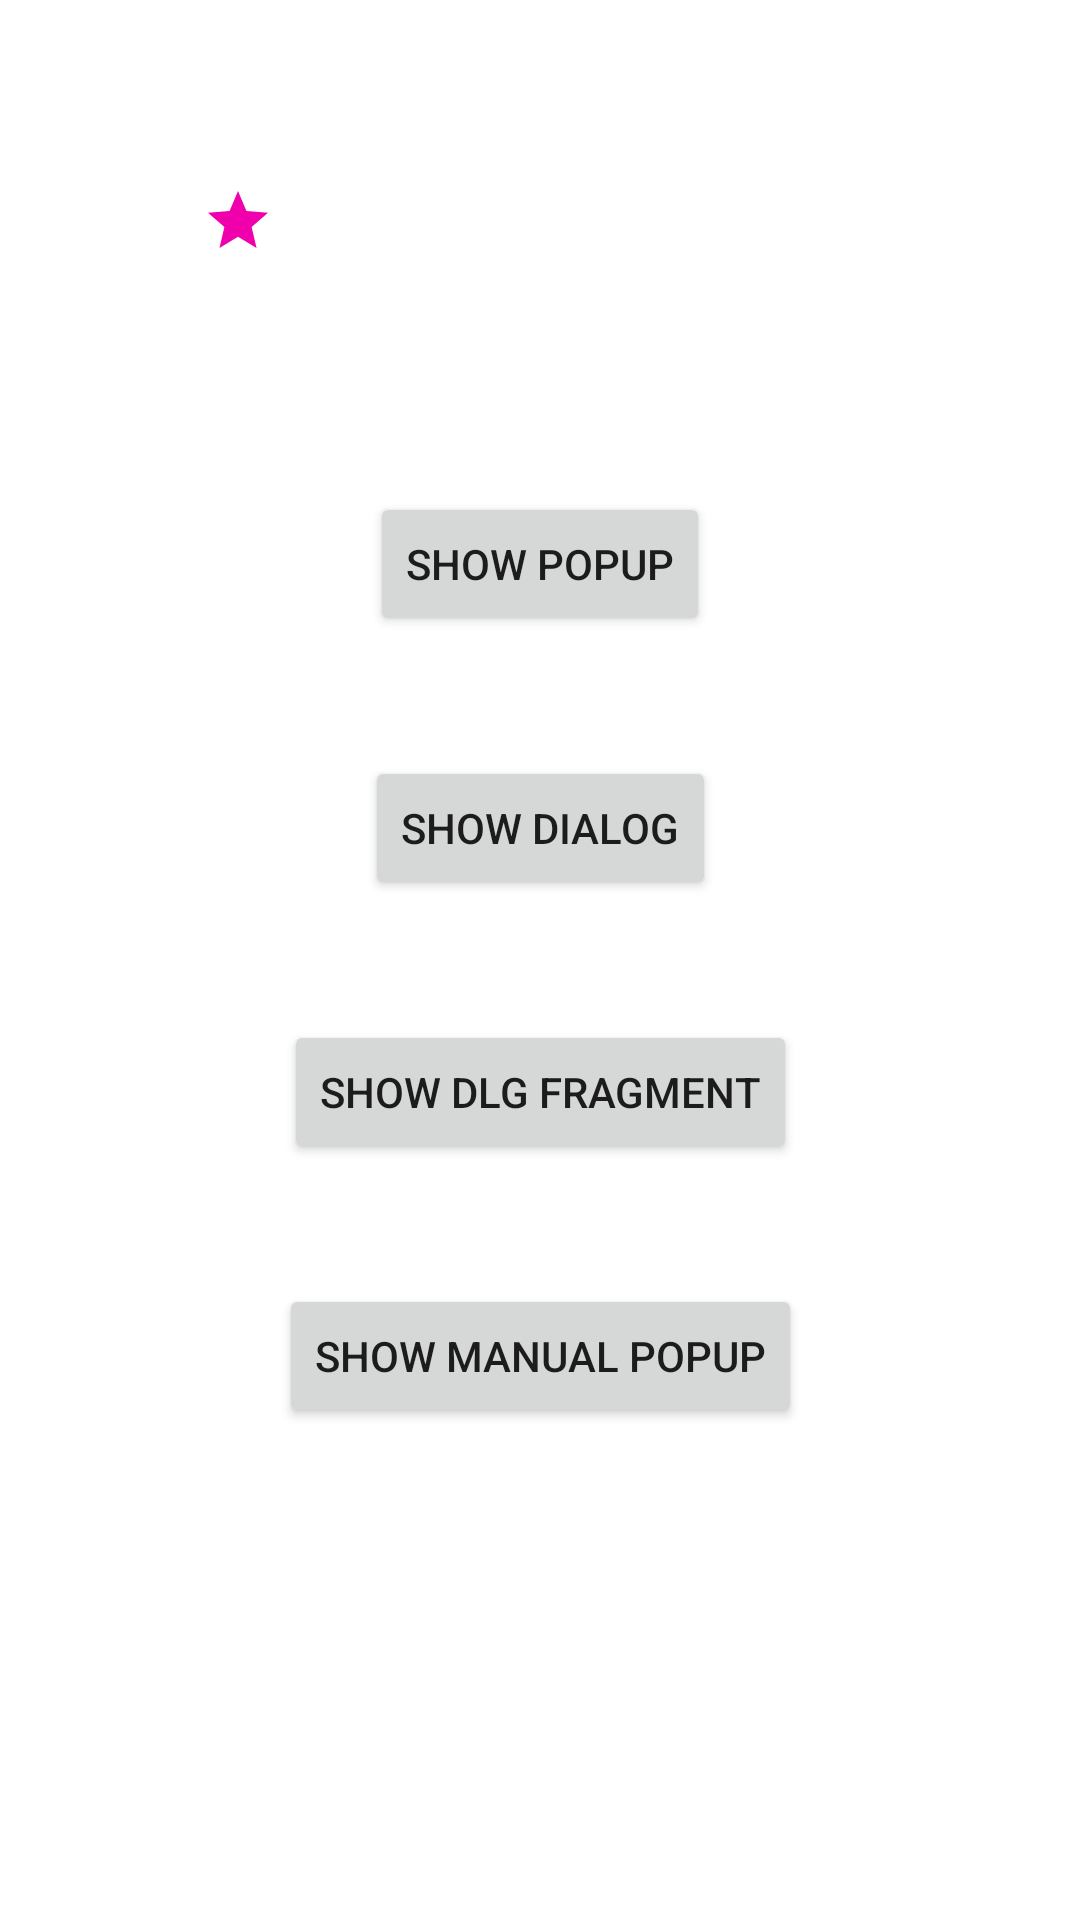

Named icons in this screenshot (1080*1920) and their bounding boxes, bbox=(x1, y1, x2, y2):
star: bbox=(208, 191, 268, 248)
